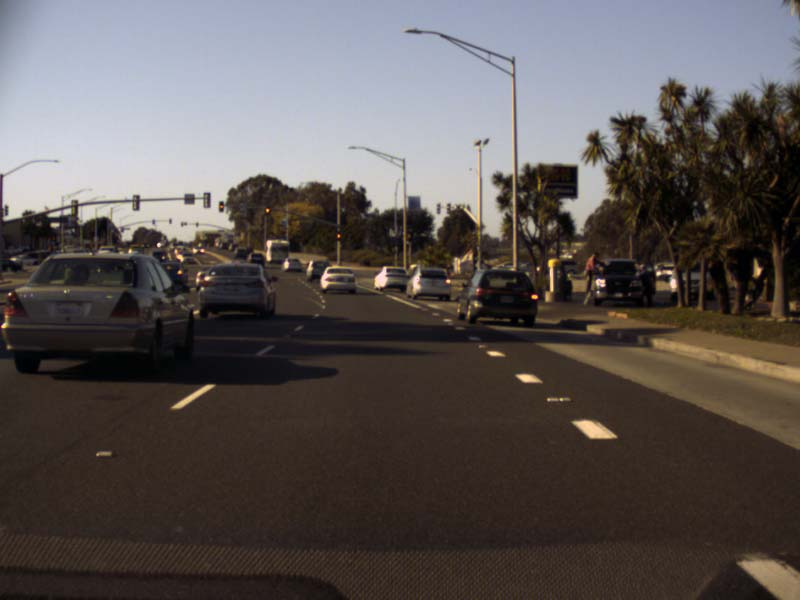Yellow: (218, 200, 224, 211), (335, 230, 341, 240), (265, 205, 270, 215)
